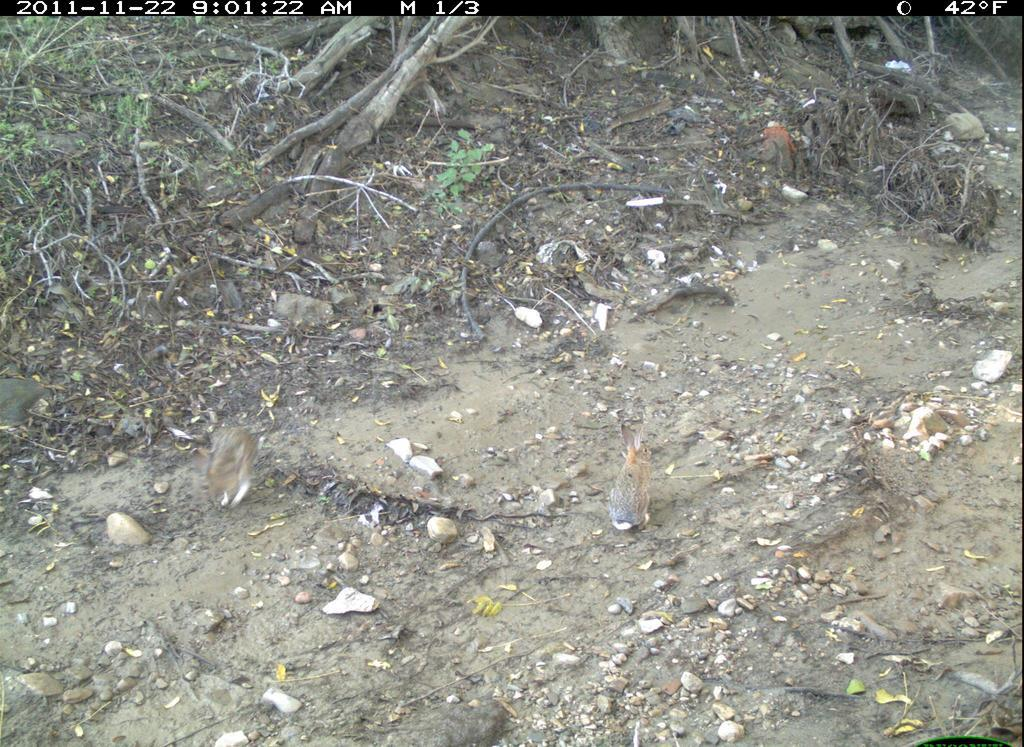rabbit: (600, 420, 683, 555), (194, 404, 267, 513)
